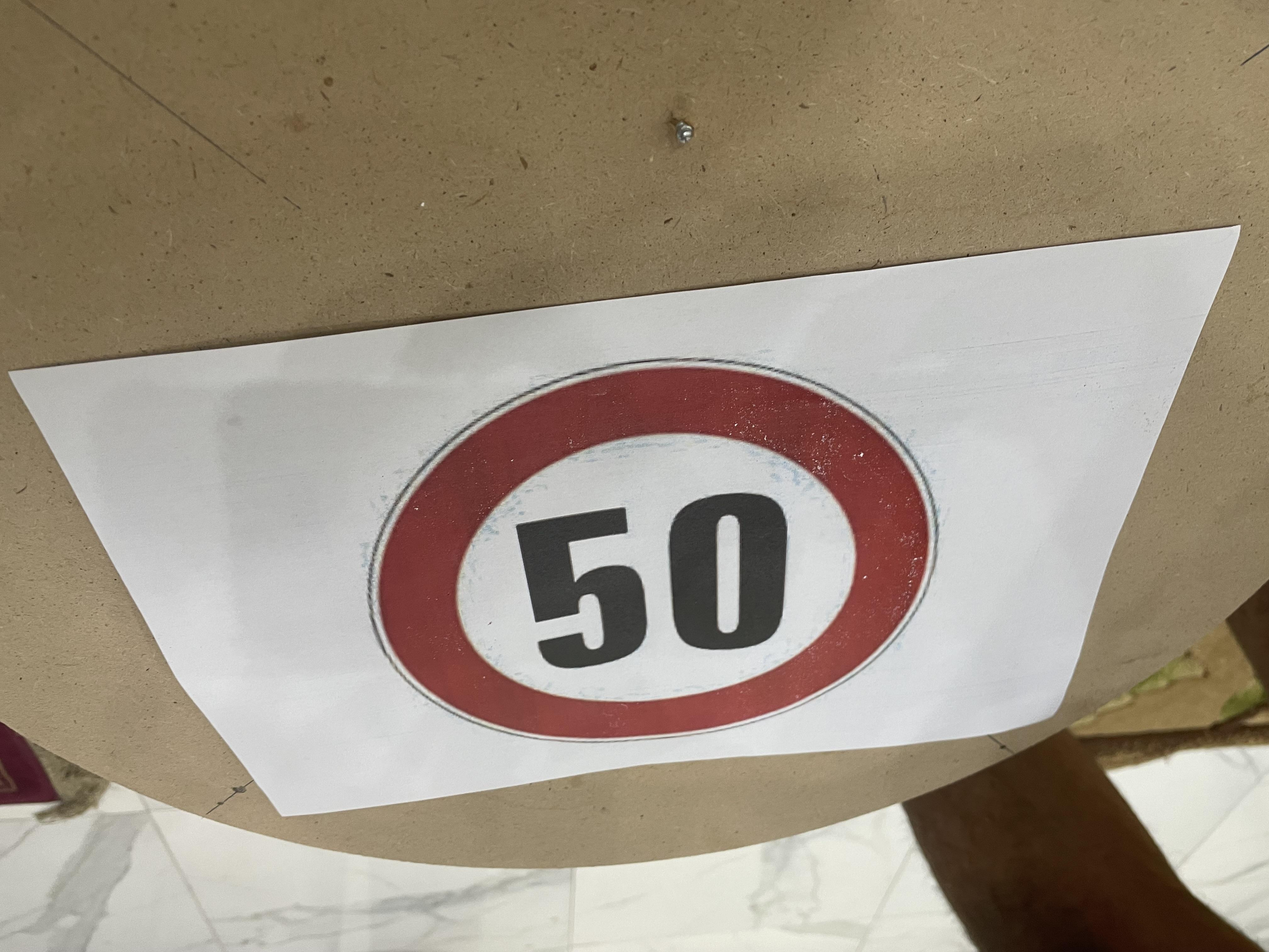50-Speed: (326, 205, 912, 593)
